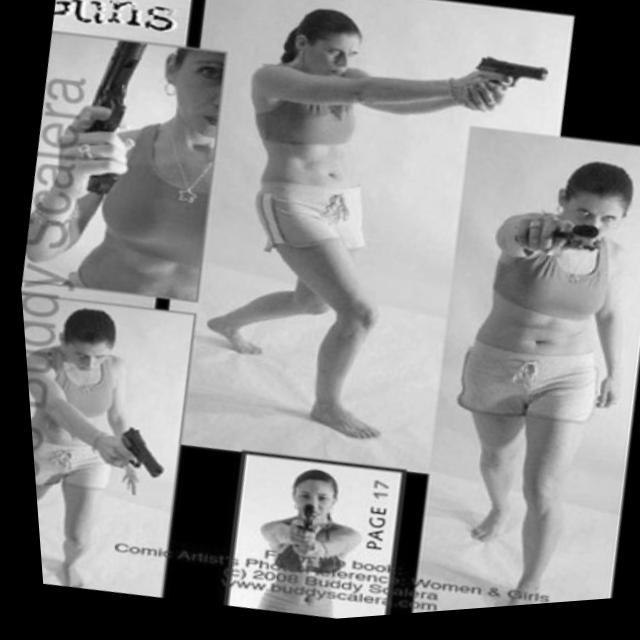weapon: (65, 34, 156, 202), (471, 57, 555, 121), (102, 418, 168, 490), (280, 500, 323, 548), (546, 227, 602, 263)
